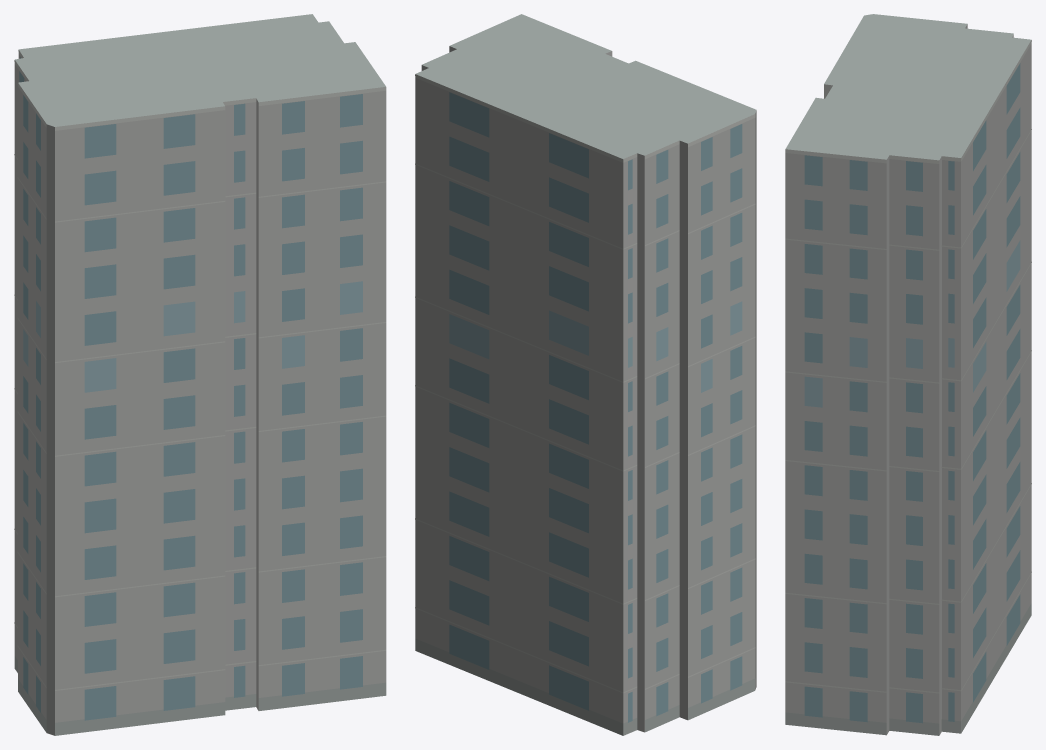
The model's file is survey-upis-32993315.glb.
3 views of the same model, side by side, from view 1: azimuth 30°, elevation 25°; view 2: azimuth 150°, elevation 25°; view 3: azimuth 270°, elevation 25° (orthographic). The views are drawn at different scales.
Visible parts, largest first — view 1: survey-upis-32993315.tmp; view 2: survey-upis-32993315.tmp; view 3: survey-upis-32993315.tmp.
Boxes of the visible parts, box(x1,y1,x2,y2) form: survey-upis-32993315.tmp: box(14, 14, 386, 735); survey-upis-32993315.tmp: box(415, 14, 756, 735); survey-upis-32993315.tmp: box(785, 14, 1031, 735).
Size of the model in its own units: 20.64 by 37.8 by 14.68.
